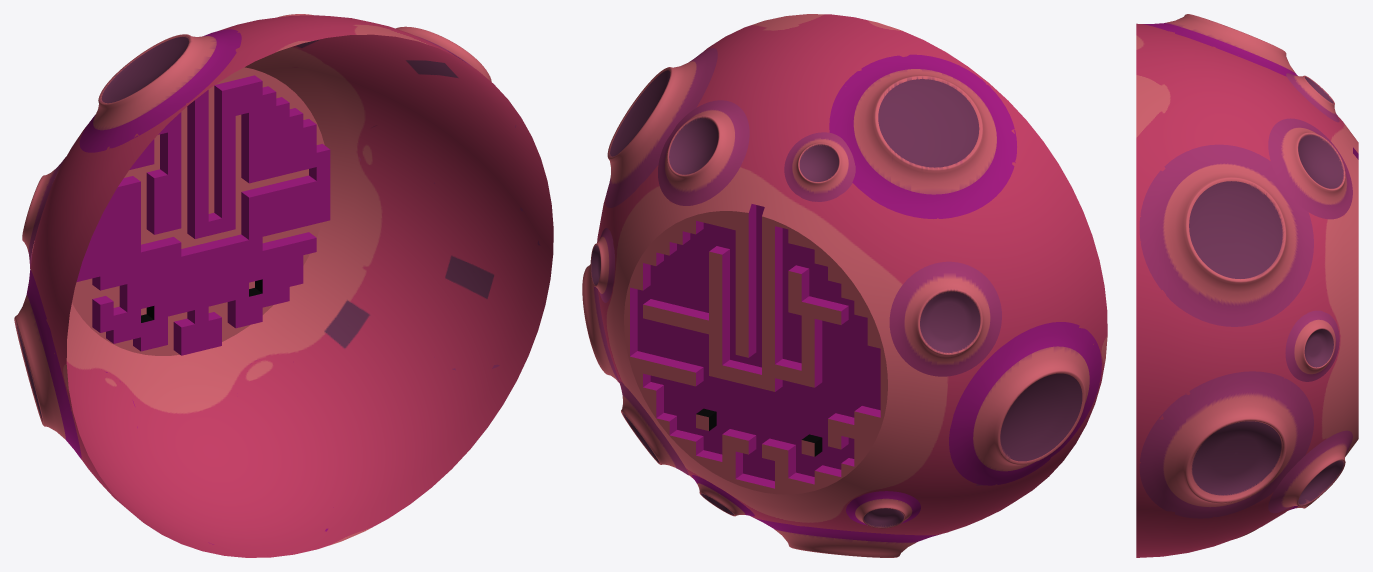
The model's file is LEVEL V3.fbx.
3 views of the same model, side by side, from view 1: azimuth 30°, elevation 25°; view 2: azimuth 150°, elevation 25°; view 3: azimuth 270°, elevation 25° (orthographic). The views are drawn at different scales.
Visible parts, largest first — view 1: world 1.001; view 2: world 1.001; view 3: world 1.001.
Part boxes in pixels (box(x1,y1,x2,y2)): world 1.001: box(14, 14, 553, 557); world 1.001: box(582, 14, 1107, 557); world 1.001: box(1136, 14, 1358, 557).
Bounding box in the file's own units: 7336 × 7322 × 2993.
